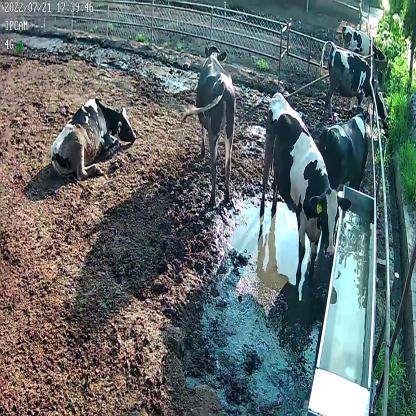cow: (259, 90, 352, 288), (180, 41, 238, 203), (48, 93, 136, 180), (318, 36, 391, 124), (318, 105, 372, 193), (340, 24, 390, 66)
